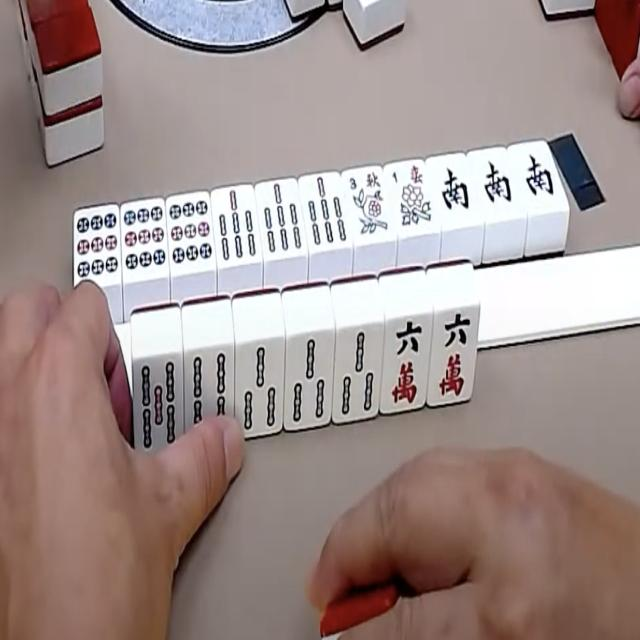ff1: (388, 161, 436, 234)
ff3: (345, 167, 392, 243)
m6: (385, 318, 433, 413), (432, 310, 478, 405)
s3: (334, 327, 384, 423), (236, 342, 285, 438), (287, 334, 335, 431)
s4: (187, 348, 236, 429)
s5: (136, 357, 183, 454)
s7: (302, 174, 351, 251), (259, 180, 307, 258), (215, 187, 263, 265)
south: (518, 144, 559, 207), (434, 156, 474, 218), (476, 150, 516, 212)
t9: (166, 193, 214, 270), (121, 201, 169, 278), (75, 208, 122, 284)
